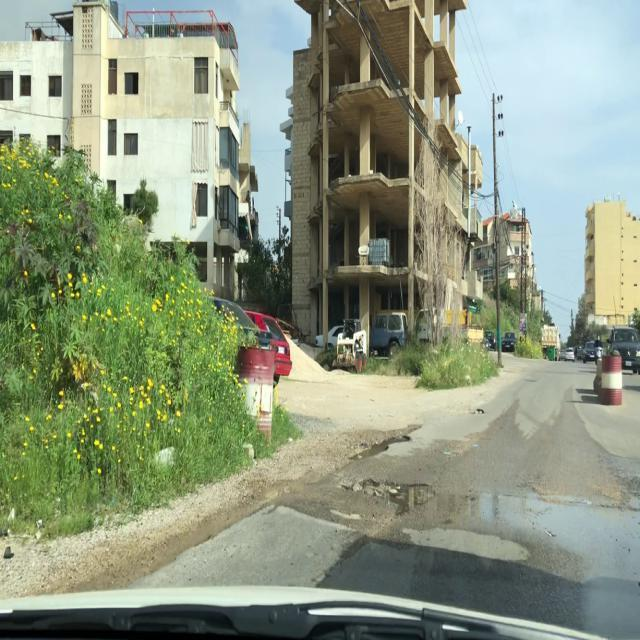pothole: (340, 476, 437, 514), (349, 435, 413, 465), (467, 407, 486, 417)
